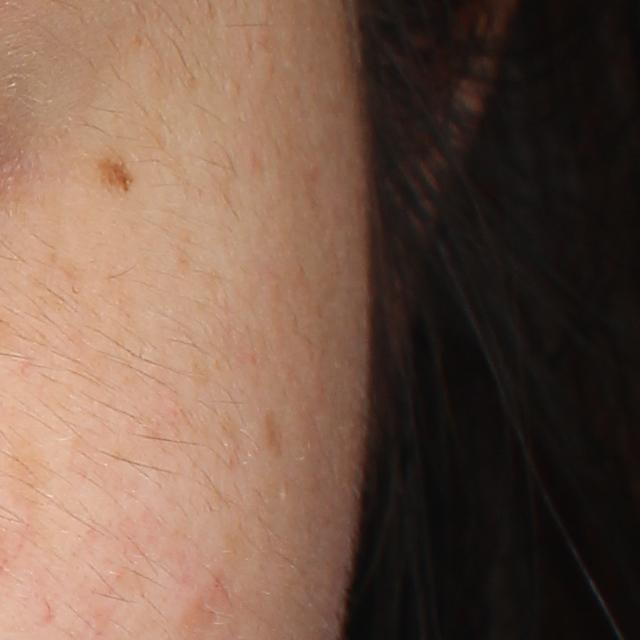melasma: (8, 442, 52, 501), (264, 407, 286, 456)
nevus: (96, 155, 139, 194)
